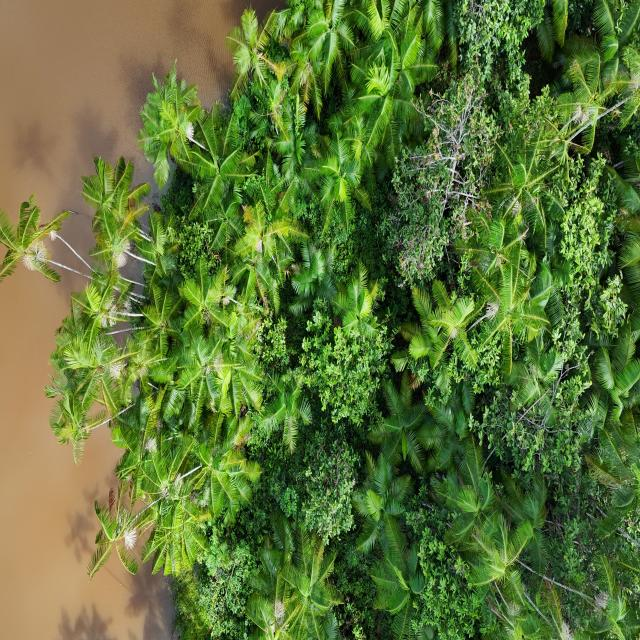vegetation: (2, 1, 638, 638)
